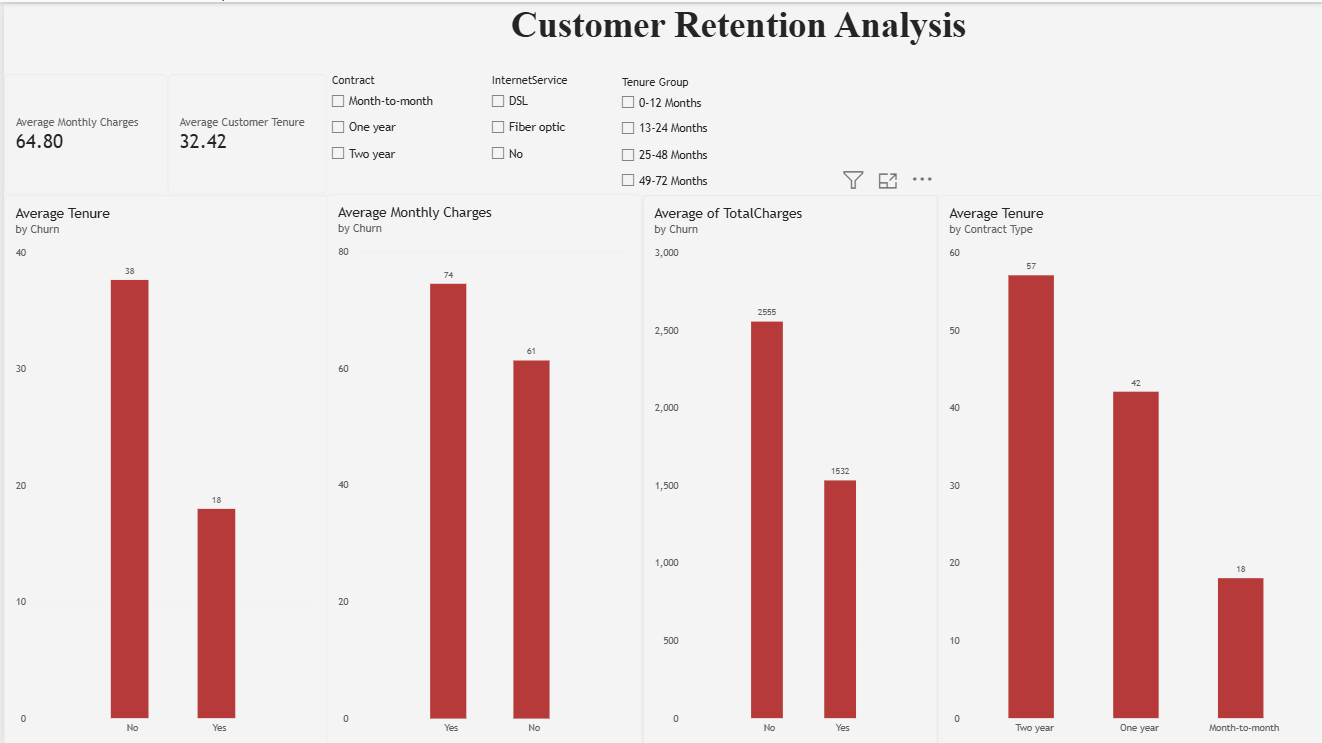

The page's visual inventory and layout, read from the dashboard file:
{"tool":"powerbi","page":{"name":"Customer Retention Analysis","canvas":[1920,1080],"ordinal":1},"visuals":[{"type":"cardVisual","fields":{"Data":["WA_Fn-UseC_-Telco-Customer-Churn.Average Tenure"]},"box":[238.5,102.7,231.1,174.3],"z":0},{"type":"clusteredColumnChart","fields":{"Category":["WA_Fn-UseC_-Telco-Customer-Churn.Churn"],"Y":["WA_Fn-UseC_-Telco-Customer-Churn.Average Tenure"]},"box":[0,277.9,475.5,802.7],"z":1},{"type":"clusteredColumnChart","fields":{"Category":["WA_Fn-UseC_-Telco-Customer-Churn.Churn"],"Y":["WA_Fn-UseC_-Telco-Customer-Churn.Average Monthly Charges"]},"box":[469.6,277,458.6,805.2],"z":2},{"type":"clusteredColumnChart","fields":{"Category":["WA_Fn-UseC_-Telco-Customer-Churn.Churn"],"Y":["Avg(WA_Fn-UseC_-Telco-Customer-Churn.TotalCharges)"]},"box":[928.3,277.9,430.2,802.7],"z":3},{"type":"clusteredColumnChart","fields":{"Category":["WA_Fn-UseC_-Telco-Customer-Churn.Contract"],"Y":["WA_Fn-UseC_-Telco-Customer-Churn.Average Tenure"]},"box":[1358.5,277.9,561.9,802.7],"z":4},{"type":"cardVisual","fields":{"Data":["WA_Fn-UseC_-Telco-Customer-Churn.Average Monthly Charges"]},"box":[0,102.7,238.5,174.3],"z":5},{"type":"slicer","fields":{"Values":["WA_Fn-UseC_-Telco-Customer-Churn.Contract"]},"box":[469.6,102.7,232.9,174.3],"z":6},{"type":"slicer","fields":{"Values":["WA_Fn-UseC_-Telco-Customer-Churn.InternetService"]},"box":[702.5,102.7,188.9,174.3],"z":7},{"type":"slicer","fields":{"Values":["WA_Fn-UseC_-Telco-Customer-Churn.Tenure Group"]},"box":[891.3,102.9,218.2,175],"z":8},{"type":"textbox","box":[722.7,0,693.3,62.4],"z":9}]}

Visuals, with their boxes in screenshot pixels (x1, y1, x2, y2), scaled from the page's 1920x1080 canvas onto the 1322x743 screenshot:
cardVisual - WA_Fn-UseC_-Telco-Customer-Churn.Average Tenure: [x1=164, y1=71, x2=323, y2=191]
clusteredColumnChart - WA_Fn-UseC_-Telco-Customer-Churn.Churn x WA_Fn-UseC_-Telco-Customer-Churn.Average Tenure: [x1=0, y1=191, x2=327, y2=742]
clusteredColumnChart - WA_Fn-UseC_-Telco-Customer-Churn.Churn x WA_Fn-UseC_-Telco-Customer-Churn.Average Monthly Charges: [x1=323, y1=191, x2=639, y2=742]
clusteredColumnChart - WA_Fn-UseC_-Telco-Customer-Churn.Churn x Avg(WA_Fn-UseC_-Telco-Customer-Churn.TotalCharges): [x1=639, y1=191, x2=935, y2=742]
clusteredColumnChart - WA_Fn-UseC_-Telco-Customer-Churn.Contract x WA_Fn-UseC_-Telco-Customer-Churn.Average Tenure: [x1=935, y1=191, x2=1321, y2=742]
cardVisual - WA_Fn-UseC_-Telco-Customer-Churn.Average Monthly Charges: [x1=0, y1=71, x2=164, y2=191]
slicer - WA_Fn-UseC_-Telco-Customer-Churn.Contract: [x1=323, y1=71, x2=484, y2=191]
slicer - WA_Fn-UseC_-Telco-Customer-Churn.InternetService: [x1=484, y1=71, x2=614, y2=191]
slicer - WA_Fn-UseC_-Telco-Customer-Churn.Tenure Group: [x1=614, y1=71, x2=764, y2=191]
textbox: [x1=498, y1=0, x2=975, y2=43]
